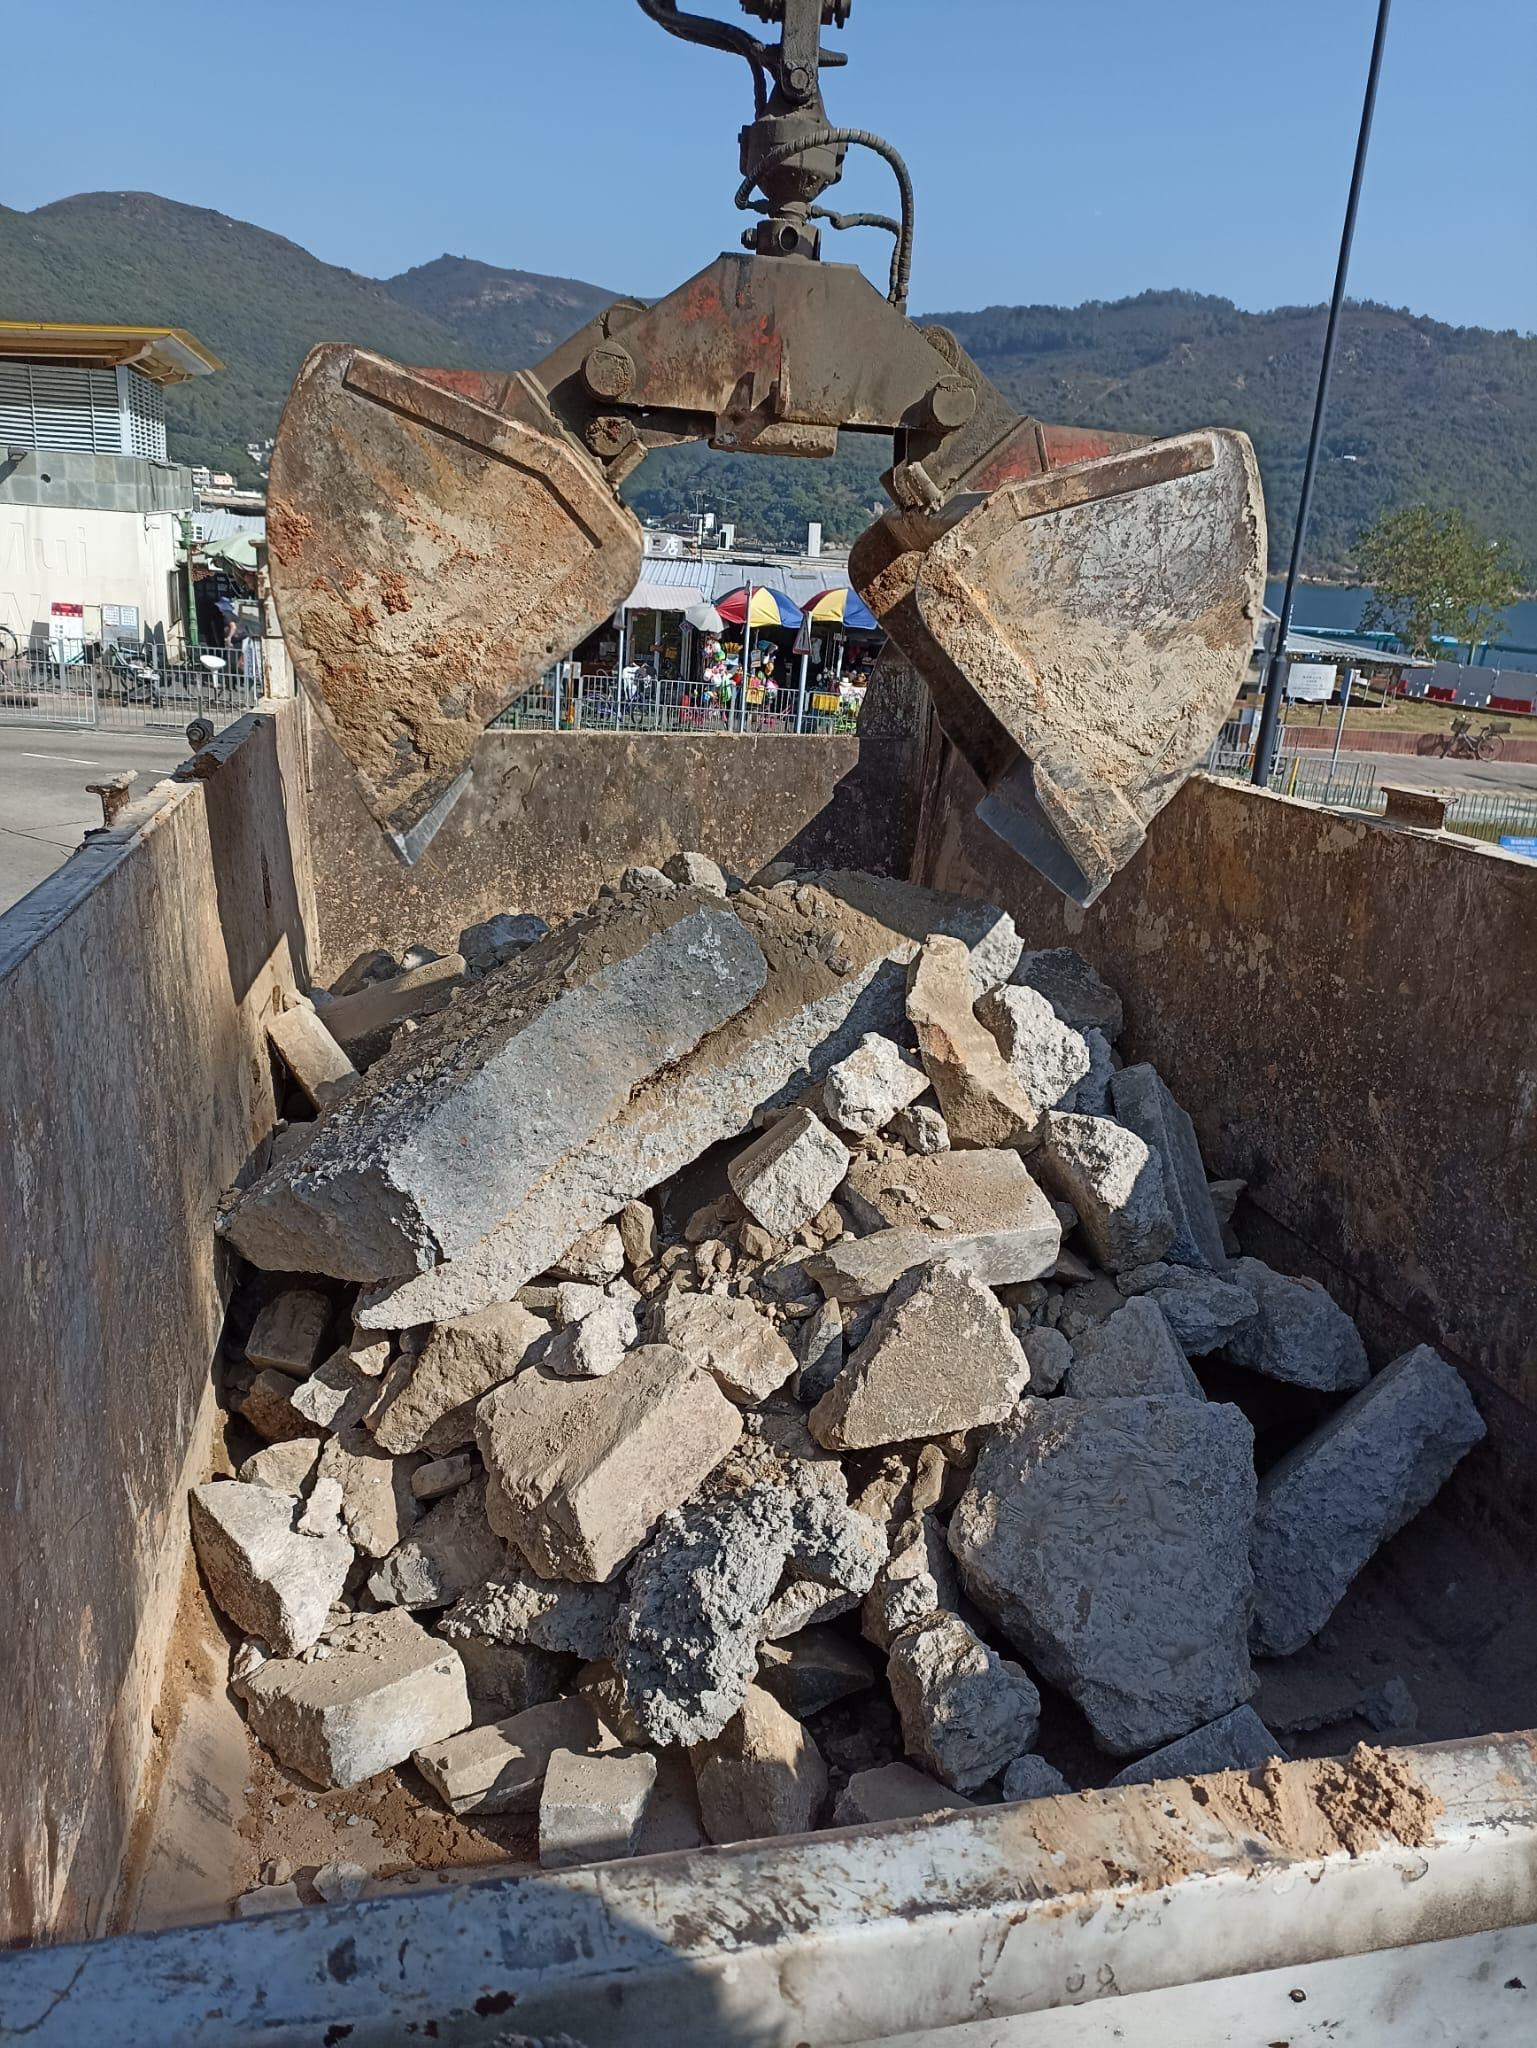dry: (207, 883, 1447, 1840)
